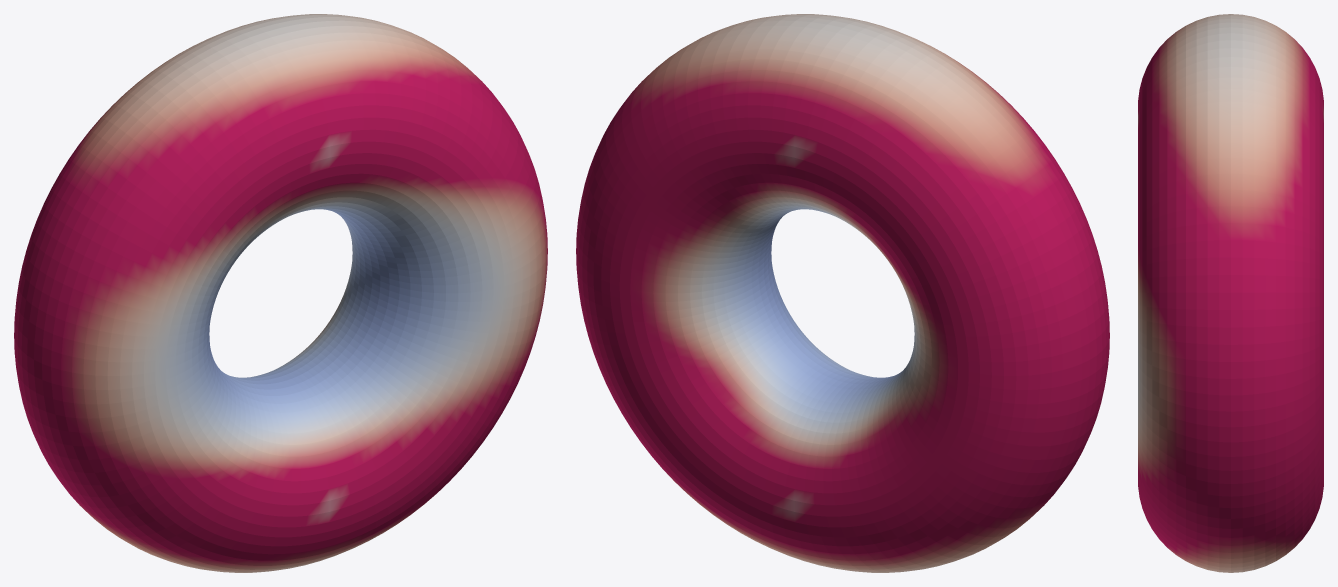
3 renders of one model, left to right at view 1: azimuth 30°, elevation 25°; view 2: azimuth 150°, elevation 25°; view 3: azimuth 270°, elevation 25°, orthographic. The views are drawn at different scales.
Parts seen in each view (by area): view 1: world; view 2: world; view 3: world.
Boxes of the visible parts, <box> form: world: <box>14,14,547,572</box>; world: <box>576,14,1109,572</box>; world: <box>1138,14,1323,572</box>.
Size of the model in its own units: 26 by 26 by 8.65.
